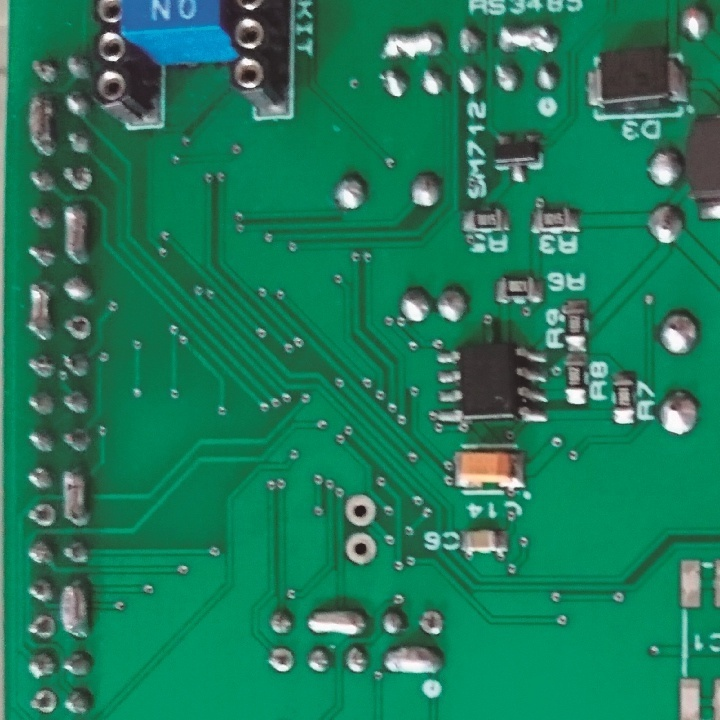F: (342, 530, 379, 569), (341, 491, 377, 528), (266, 645, 297, 677), (24, 500, 58, 529), (415, 609, 447, 638), (27, 686, 59, 715), (61, 163, 93, 192), (27, 612, 56, 642), (63, 312, 92, 340)
P: (497, 22, 560, 57), (305, 606, 367, 638), (383, 645, 444, 677), (59, 580, 92, 639), (27, 95, 57, 156), (63, 199, 89, 267), (381, 31, 444, 58), (61, 469, 90, 526), (27, 281, 54, 341)
